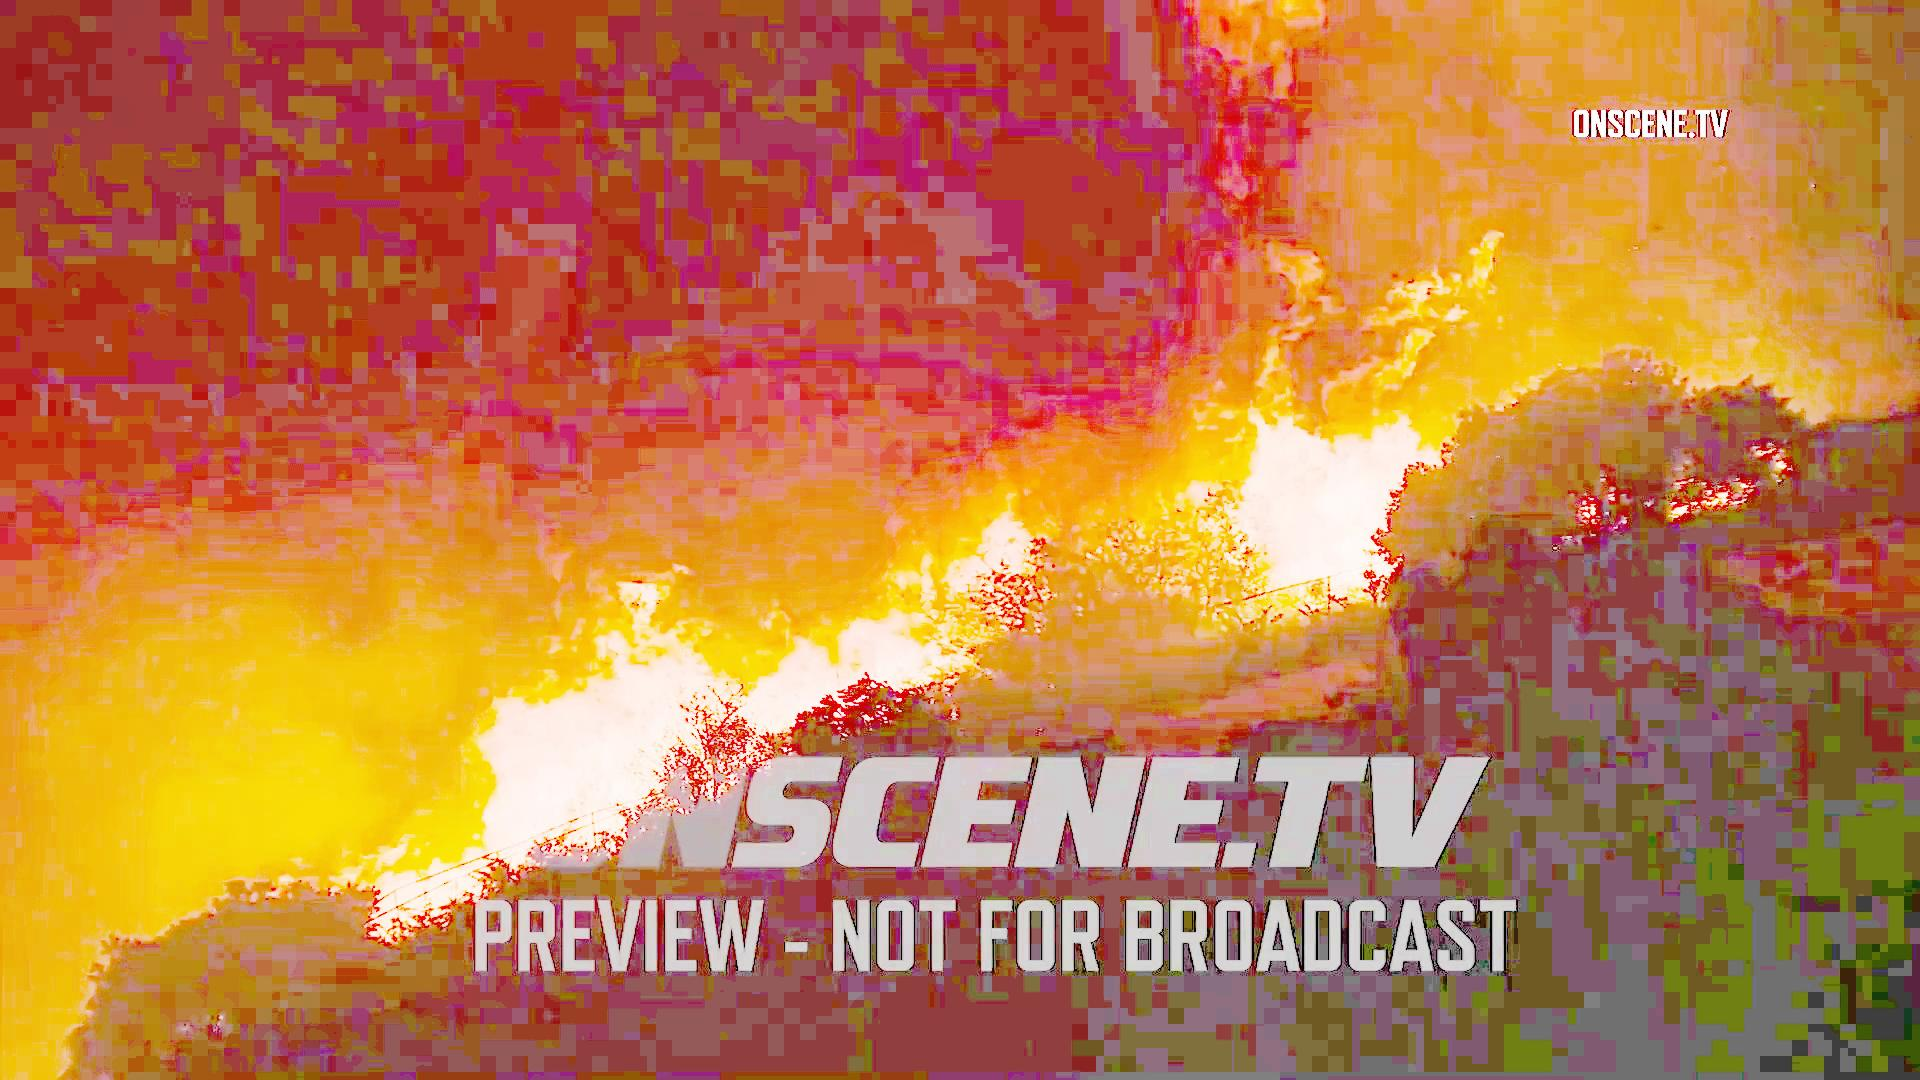fire: (1182, 293, 1404, 575), (443, 578, 694, 782)
